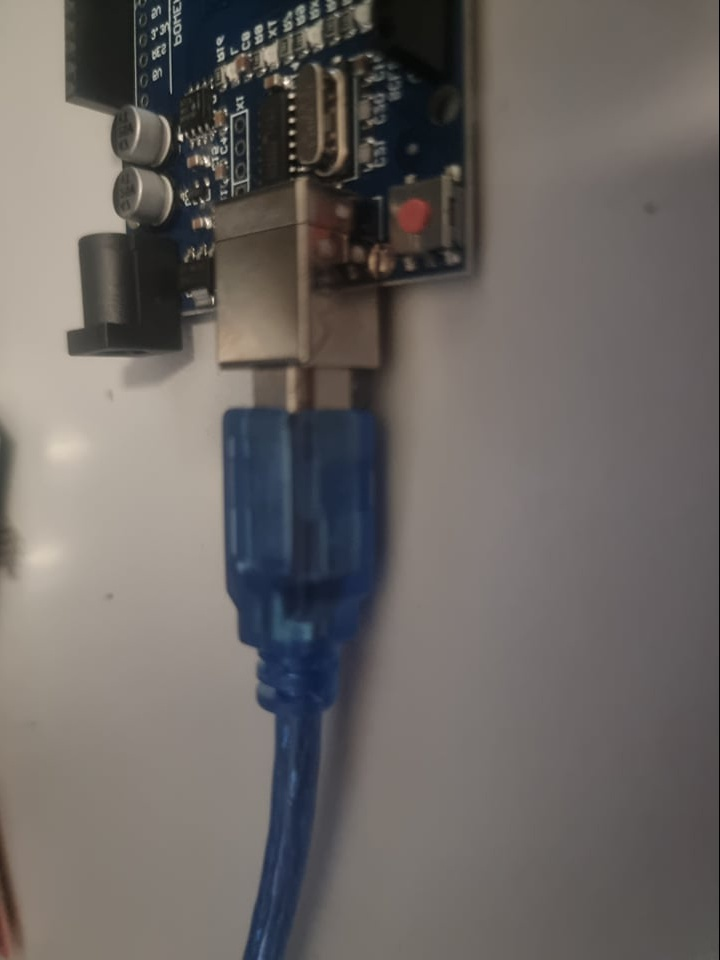UNO R3: (63, 1, 503, 373)
